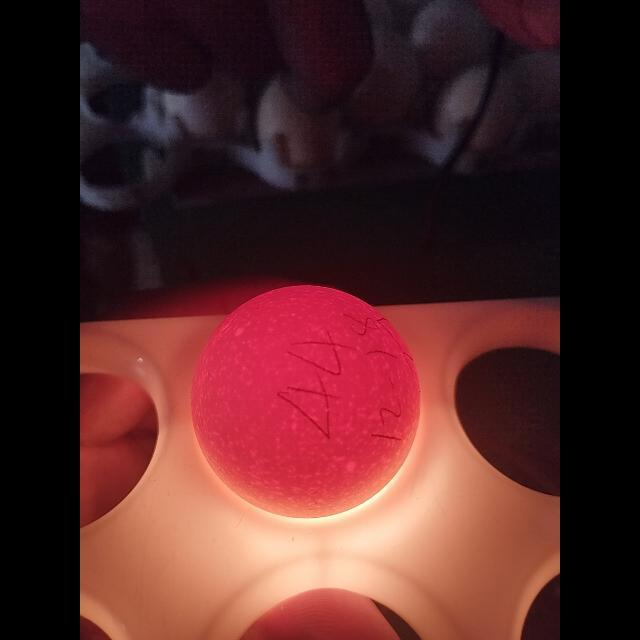Infertile: (188, 282, 424, 522)
